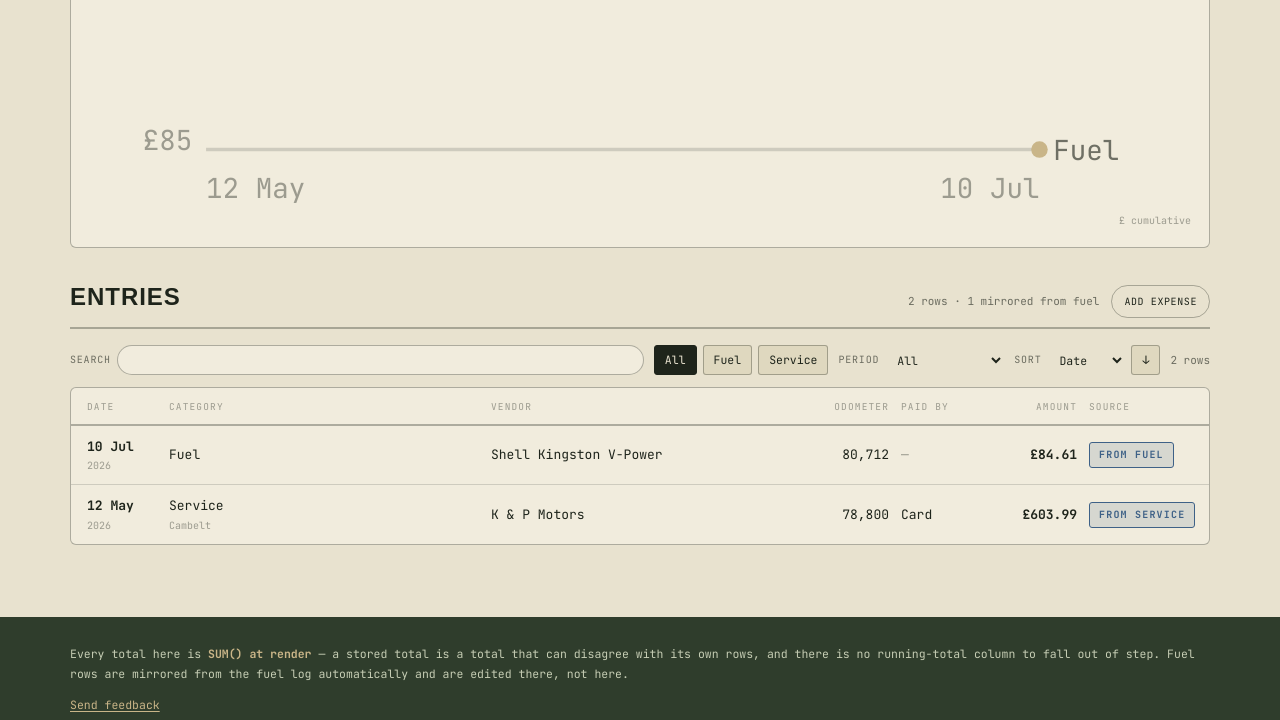
Test: filter, sort and the filtered total › recomputes a filtered total from the visible rows, distinct from the YTD rollup
(page scrolled)
expect the text "K & P Motors" is shown: met, box top-left (491, 506), bottom-right (585, 523)
# Filter to Service: the filtered total is that one row's amount, labelled as the filtered view — not YTD.
Click the button "Service".
click(793, 360)  # box top-left (758, 345), bottom-right (828, 375)
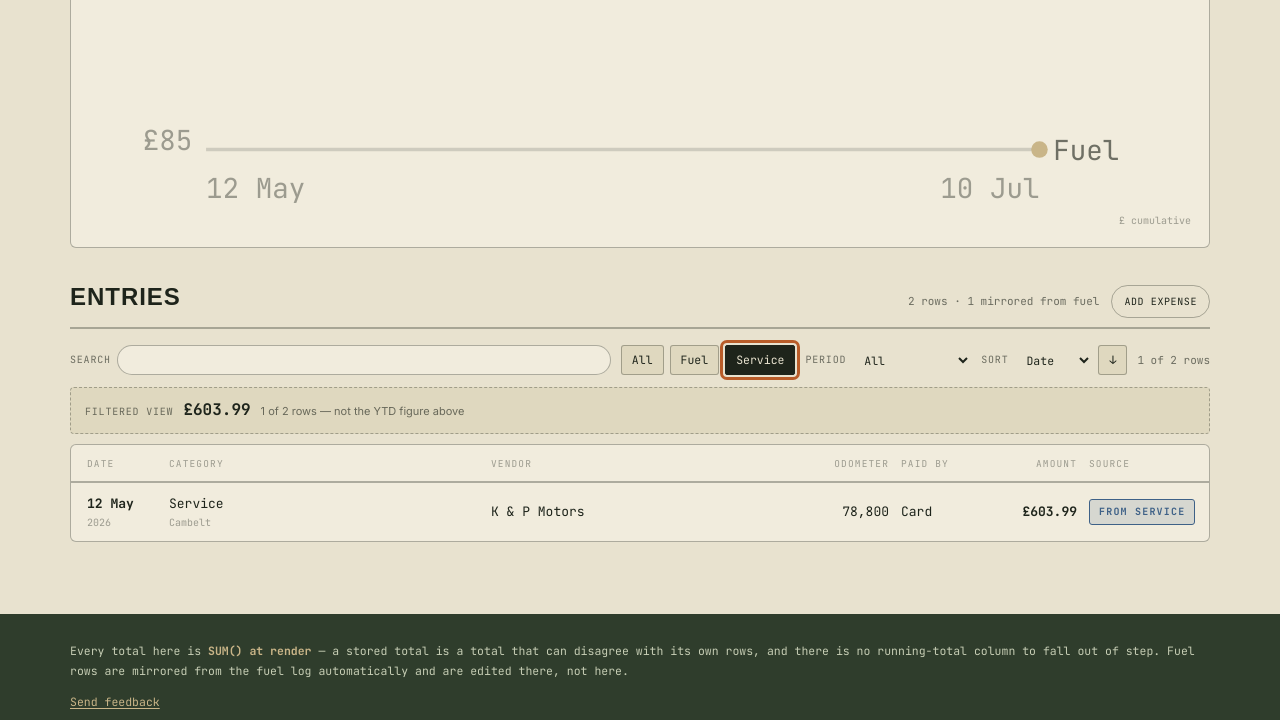
expect the message "Filtered view £603.99 1 of 2 rows — not the YTD figure above" is shown: met, box top-left (70, 387), bottom-right (1210, 434)
expect the text "£603.99" next to "Filtered view" is shown: met, box top-left (183, 399), bottom-right (251, 420)
expect the text "1 of 2 rows — not the YTD figure above" is shown: met, box top-left (261, 403), bottom-right (464, 420)
